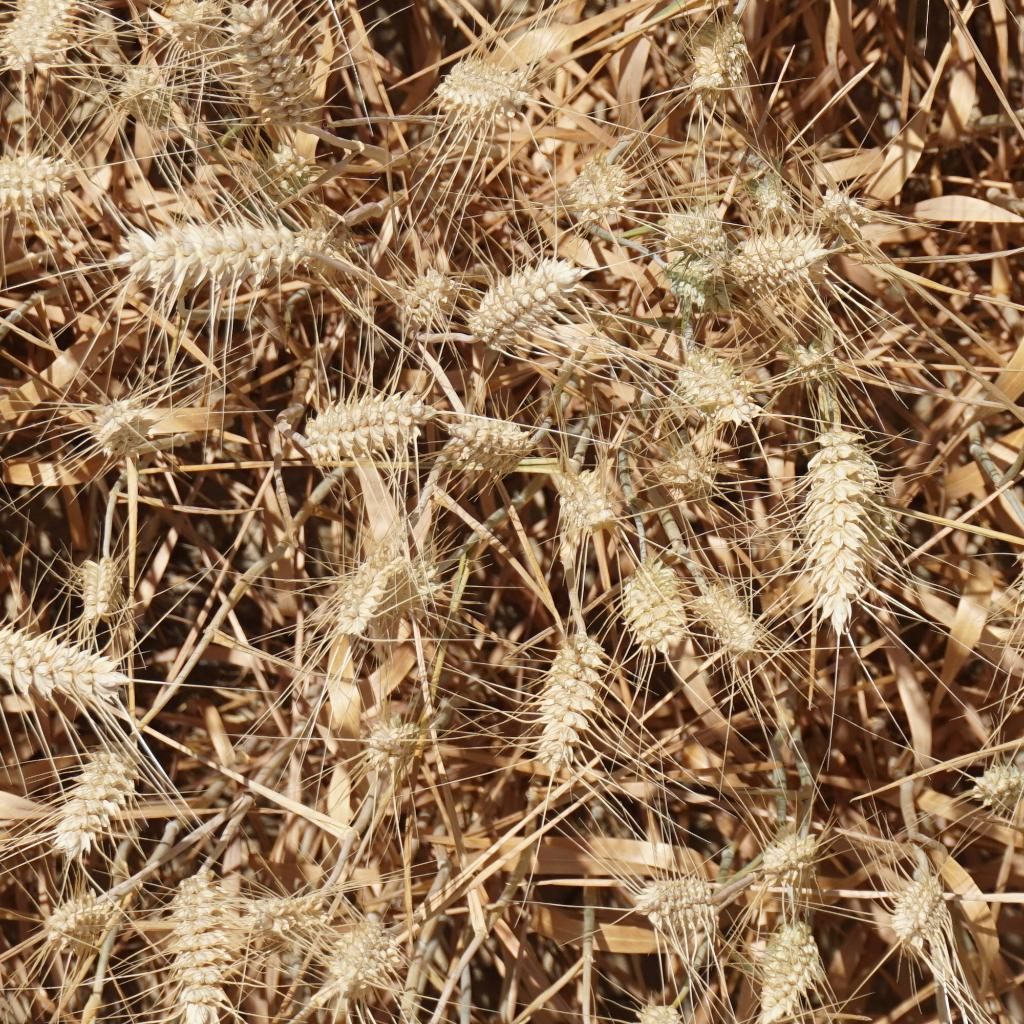0-0: (122, 207, 334, 303), (799, 428, 880, 629), (273, 362, 429, 451), (0, 614, 137, 713), (47, 728, 145, 860), (529, 625, 608, 783), (467, 252, 588, 346), (230, 0, 320, 122), (167, 864, 232, 1024), (333, 548, 441, 638), (667, 338, 765, 435), (628, 860, 720, 947), (620, 561, 695, 663), (431, 49, 529, 125), (728, 230, 827, 304), (754, 917, 819, 1022), (0, 138, 82, 220), (886, 866, 965, 951), (693, 570, 765, 663), (553, 458, 630, 543), (0, 0, 87, 75), (331, 913, 409, 996), (77, 391, 167, 459), (451, 391, 527, 466), (40, 892, 118, 965), (956, 738, 1024, 821), (240, 891, 332, 948), (356, 702, 427, 775), (570, 153, 632, 236), (63, 557, 130, 632), (994, 535, 1024, 695), (663, 439, 730, 509), (662, 194, 732, 258), (758, 820, 826, 884), (262, 142, 332, 201), (397, 263, 456, 331), (113, 61, 174, 121), (662, 256, 729, 309), (818, 186, 873, 241), (748, 166, 798, 223), (159, 0, 229, 40), (684, 36, 727, 101), (780, 336, 838, 383), (710, 16, 746, 86), (633, 990, 686, 1024)
